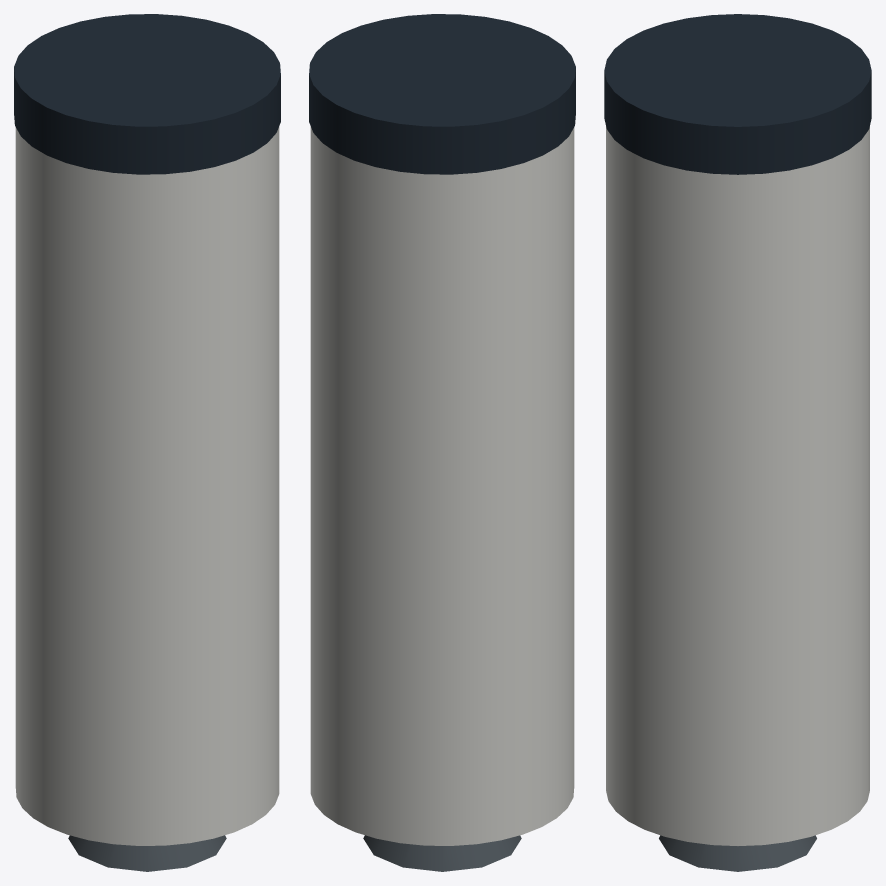
The model's file is minuteman-stage-1.glb.
3 renders of one model, left to right at view 1: azimuth 30°, elevation 25°; view 2: azimuth 150°, elevation 25°; view 3: azimuth 270°, elevation 25°, orthographic.
Visible parts, largest first — view 1: body-0, interstage-0, engine-0-0; view 2: body-0, interstage-0, engine-0-0; view 3: body-0, interstage-0, engine-0-0.
Part boxes in pixels (bbox=[...]): body-0: bbox=[15, 126, 279, 845]; interstage-0: bbox=[14, 14, 280, 174]; engine-0-0: bbox=[68, 835, 226, 871]; body-0: bbox=[310, 126, 574, 845]; interstage-0: bbox=[309, 14, 575, 174]; engine-0-0: bbox=[363, 835, 521, 871]; body-0: bbox=[606, 126, 869, 845]; interstage-0: bbox=[604, 14, 871, 174]; engine-0-0: bbox=[659, 835, 816, 871].
Size of the model in its own units: 1.69 by 5.36 by 1.69.
